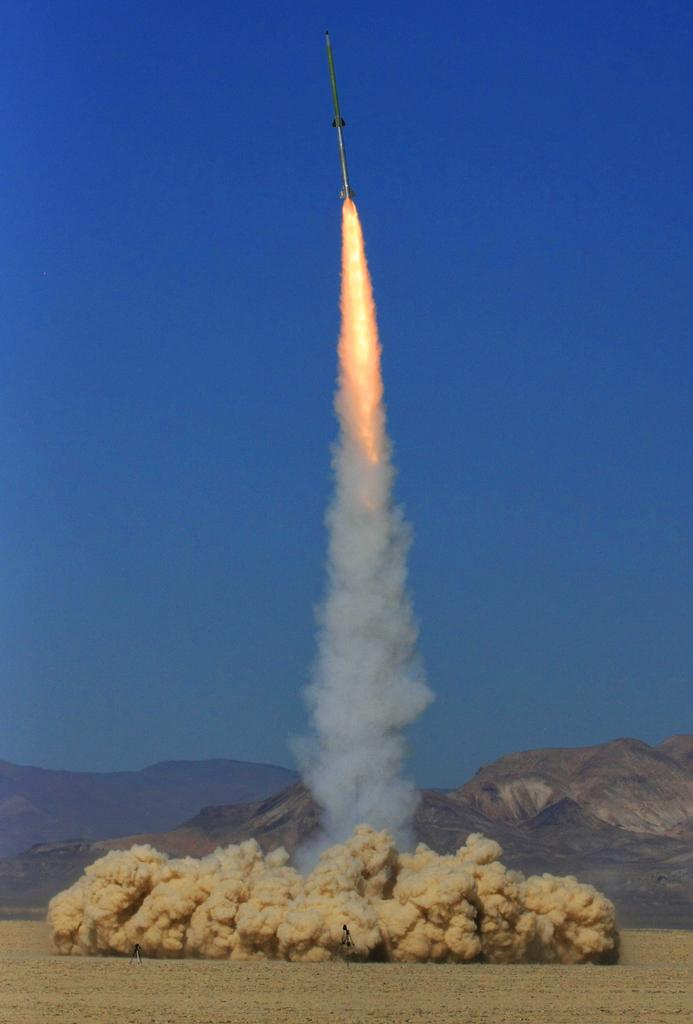Missile: (320, 27, 360, 203)
